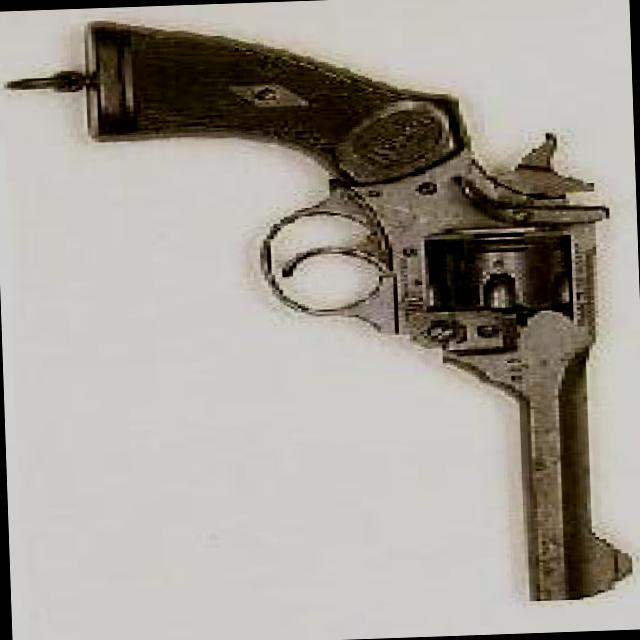handgun: (82, 0, 639, 622)
